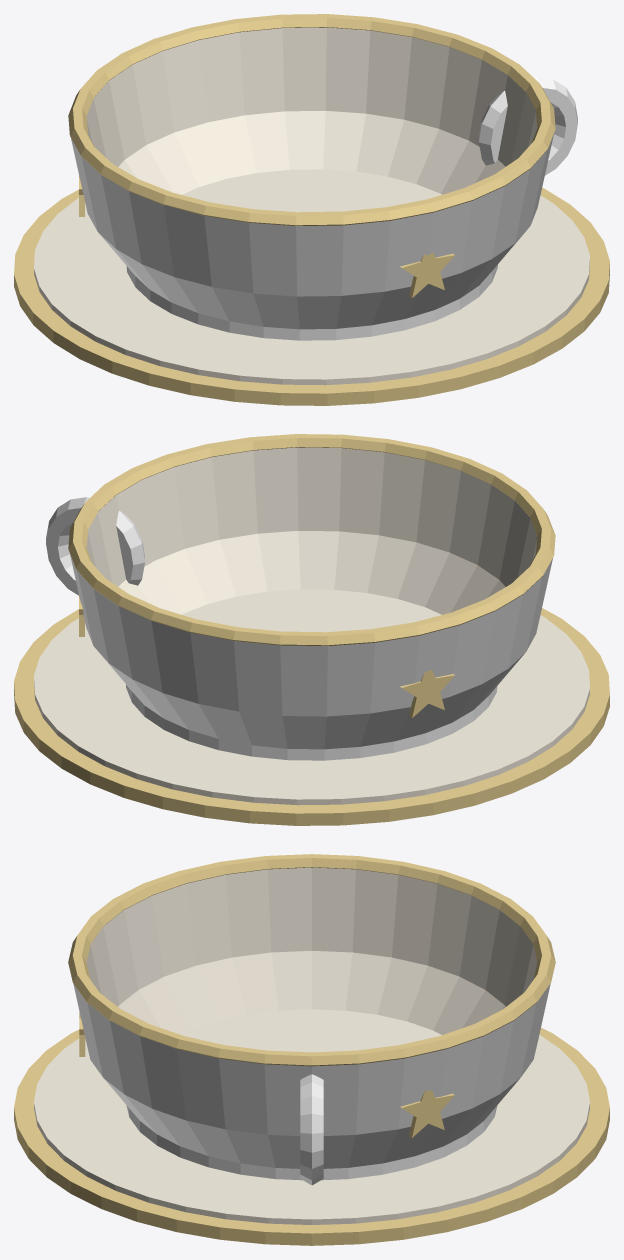
The model's file is taza.glb.
3 renders of one model, top to bottom at view 1: azimuth 30°, elevation 25°; view 2: azimuth 150°, elevation 25°; view 3: azimuth 270°, elevation 25°, orthographic.
Parts seen in each view (by area): view 1: taza; view 2: taza; view 3: taza.
Boxes of the visible parts, bbox=[...] form: taza: bbox=[14, 14, 609, 405]; taza: bbox=[14, 434, 609, 825]; taza: bbox=[14, 854, 609, 1245].
Size of the model in its own units: 2.44 by 0.732 by 2.4.
